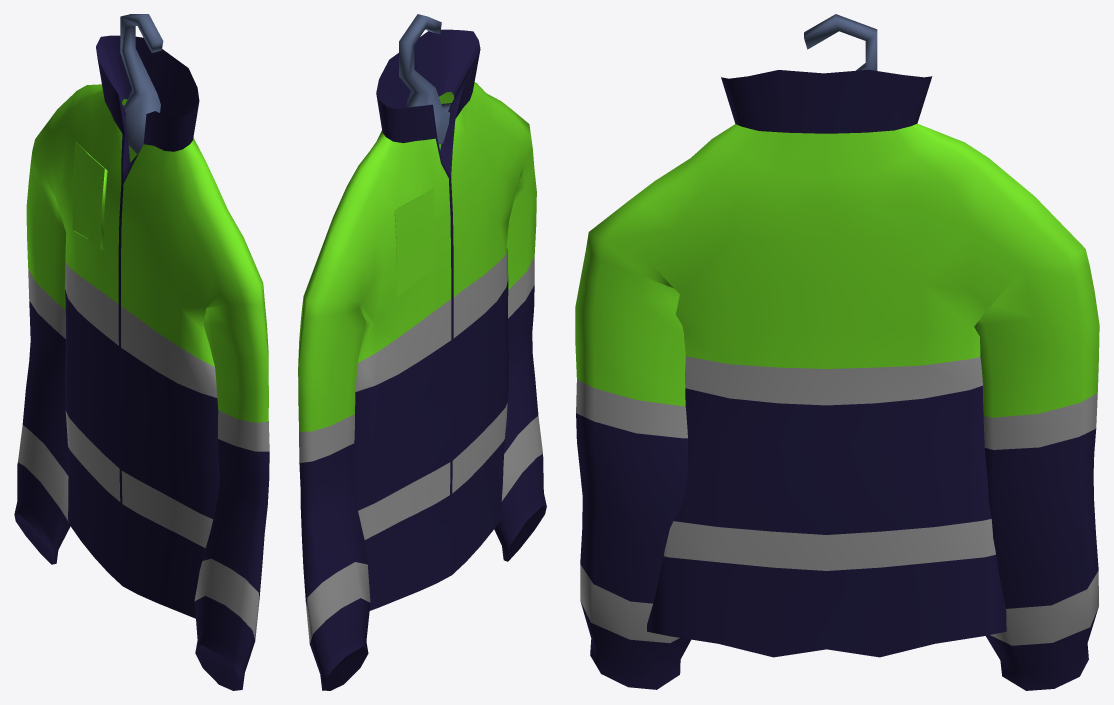
Rendered from special_jacket2.fbx.
3 views of the same model, side by side, from view 1: azimuth 30°, elevation 25°; view 2: azimuth 150°, elevation 25°; view 3: azimuth 270°, elevation 25° (orthographic). The views are drawn at different scales.
Parts seen in each view (by area): view 1: special_jacket1.001; view 2: special_jacket1.001; view 3: special_jacket1.001.
Boxes of the visible parts, <box> form: special_jacket1.001: <box>14,14,269,690</box>; special_jacket1.001: <box>298,14,546,690</box>; special_jacket1.001: <box>575,14,1099,690</box>.
Bounding box in the file's own units: 0.204 × 2.03 × 1.42.
